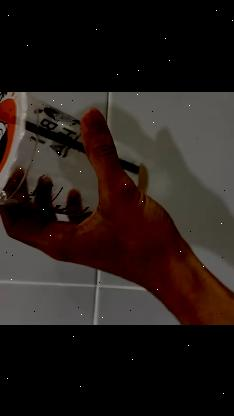Others: (0, 91, 155, 219)
